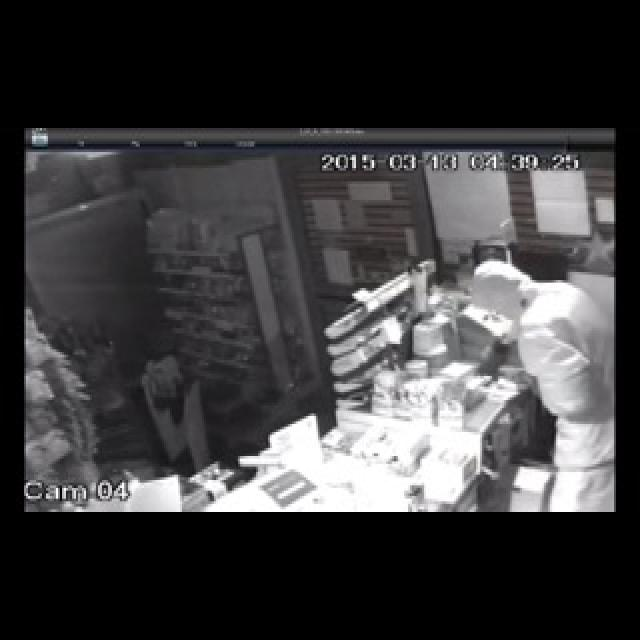thief: (469, 250, 614, 511)
